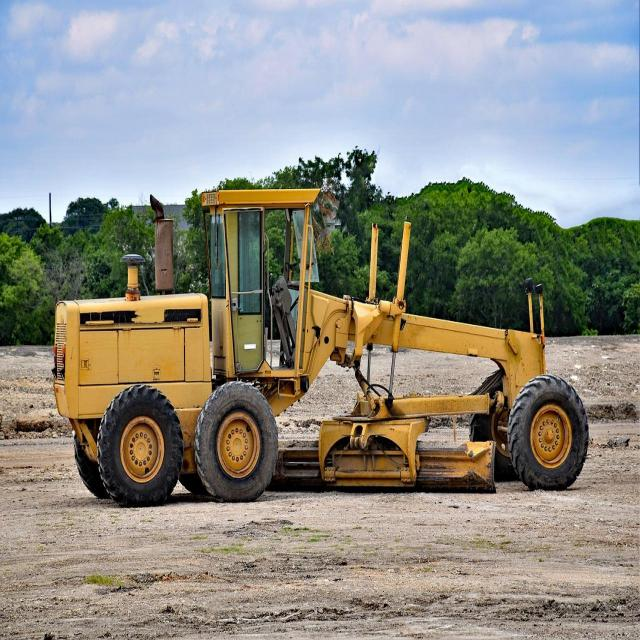Grader: (50, 150, 594, 508)
